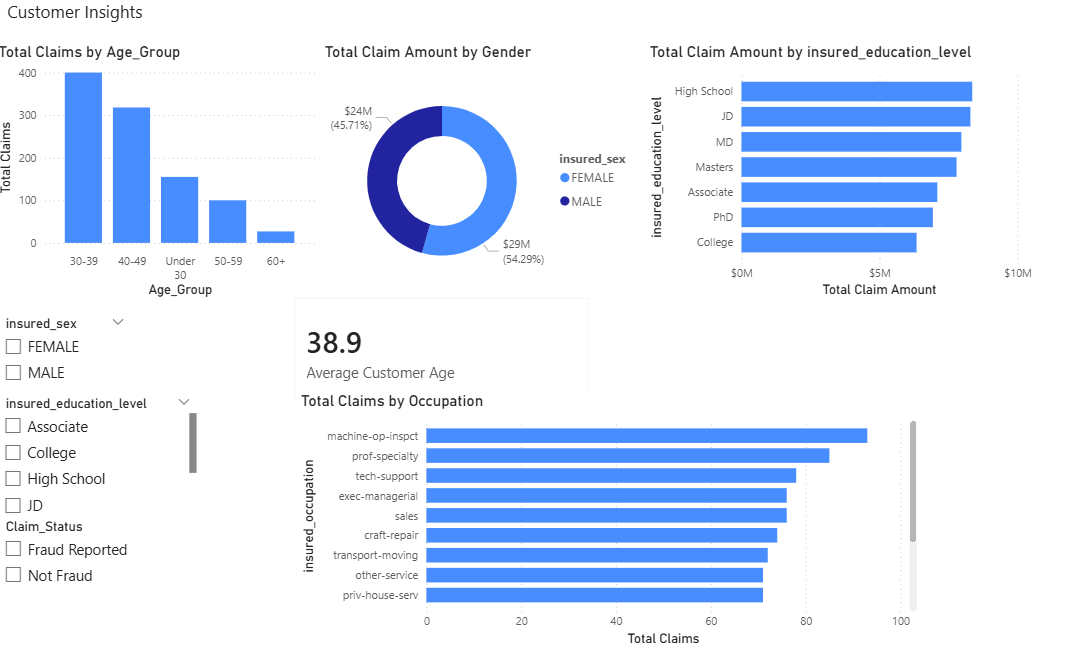

Layout of this report page (visuals, bound fields, positions):
{"tool":"powerbi","page":{"name":"Customer Insights","canvas":[1280,720],"ordinal":2},"visuals":[{"type":"textbox","box":[10,0,170,52.5],"z":0},{"type":"clusteredColumnChart","fields":{"Category":["Claims.Age_Group"],"Y":["Claims.Total Claims"]},"box":[0,52.5,357.5,285],"z":1},{"type":"donutChart","title":"Total Claim Amount by Gender","fields":{"Category":["Claims.insured_sex"],"Y":["Claims.Total Claim Amount"]},"box":[357.5,52.5,357.5,285],"z":2},{"type":"clusteredBarChart","fields":{"Category":["Claims.insured_education_level"],"Y":["Claims.Total Claim Amount"]},"box":[715,52.5,430,285],"z":3},{"type":"slicer","fields":{"Values":["Claims.insured_sex"]},"box":[0,347.5,155,87.5],"z":4},{"type":"slicer","fields":{"Values":["Claims.insured_education_level"]},"box":[0,435,227.5,145],"z":5},{"type":"slicer","fields":{"Values":["Claims.Claim_Status"]},"box":[0,570,358.8,150],"z":6},{"type":"cardVisual","fields":{"Data":["Claims.Average Customer Age"]},"box":[312.5,316.2,358.8,150],"z":7},{"type":"clusteredBarChart","title":"Total Claims by Occupation","fields":{"Category":["Claims.insured_occupation"],"Y":["Claims.Total Claims"]},"box":[332.5,435,686.2,285],"z":8}]}

Visuals, with their boxes on the page's 1280x720 design canvas (x1, y1, x2, y2). These are canvas units, not pixel positions in the 1088x650 screenshot, which may show the page scaled, cropped or inside an application window:
textbox: 10, 0, 180, 52
clusteredColumnChart - Claims.Age_Group x Claims.Total Claims: 0, 52, 358, 338
"Total Claim Amount by Gender" donutChart: 358, 52, 715, 338
clusteredBarChart - Claims.insured_education_level x Claims.Total Claim Amount: 715, 52, 1145, 338
slicer - Claims.insured_sex: 0, 348, 155, 435
slicer - Claims.insured_education_level: 0, 435, 228, 580
slicer - Claims.Claim_Status: 0, 570, 359, 720
cardVisual - Claims.Average Customer Age: 312, 316, 671, 466
"Total Claims by Occupation" clusteredBarChart: 332, 435, 1019, 720
